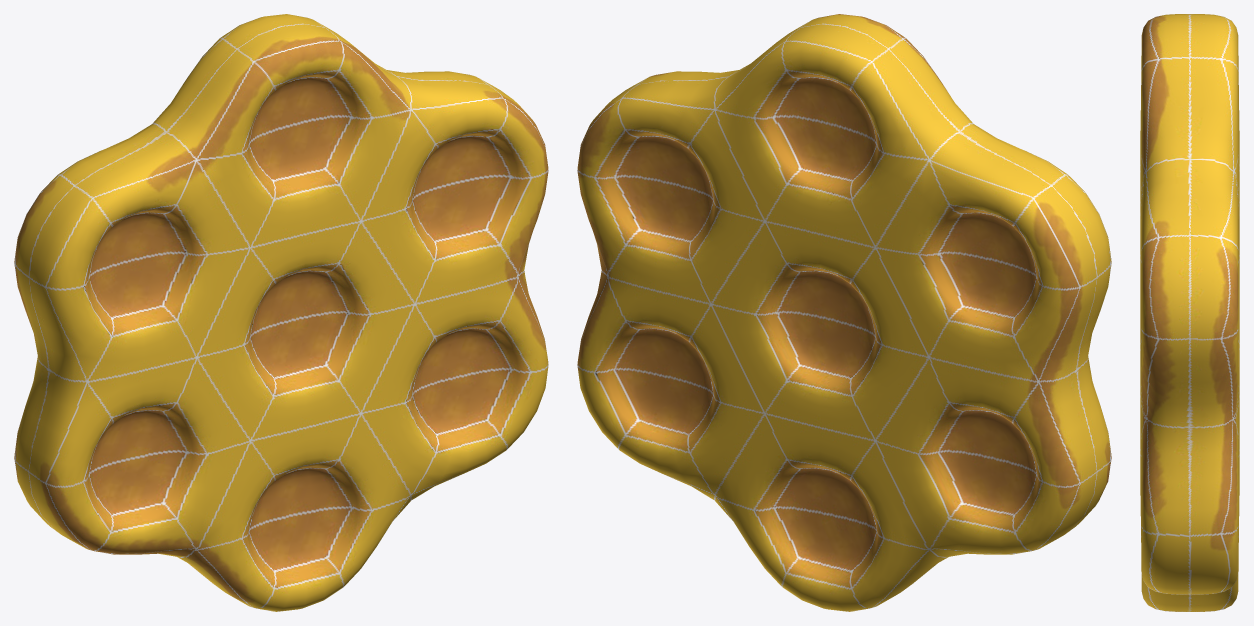
File: HoneyComb.fbx
3 renders of one model, left to right at view 1: azimuth 30°, elevation 25°; view 2: azimuth 150°, elevation 25°; view 3: azimuth 270°, elevation 25°, orthographic.
Parts seen in each view (by area): view 1: pPlane11; view 2: pPlane11; view 3: pPlane11.
Boxes of the visible parts, <box> form: pPlane11: <box>14,14,548,611</box>; pPlane11: <box>577,14,1111,611</box>; pPlane11: <box>1140,14,1239,611</box>.
Size of the model in its own units: 6.5 by 7.05 by 1.1.
